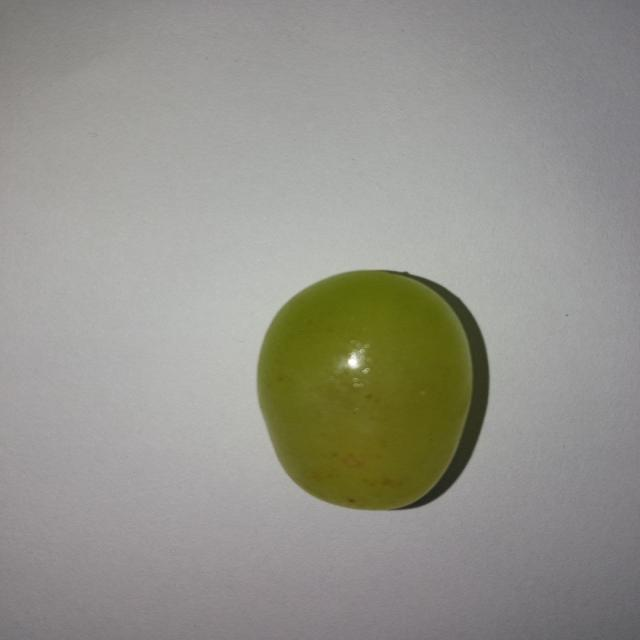fresh_grape: (253, 268, 480, 510)
